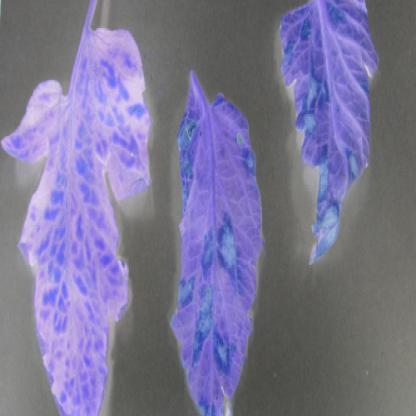Tomato mold leaf: (6, 18, 152, 414), (165, 86, 266, 414), (280, 2, 382, 254)
